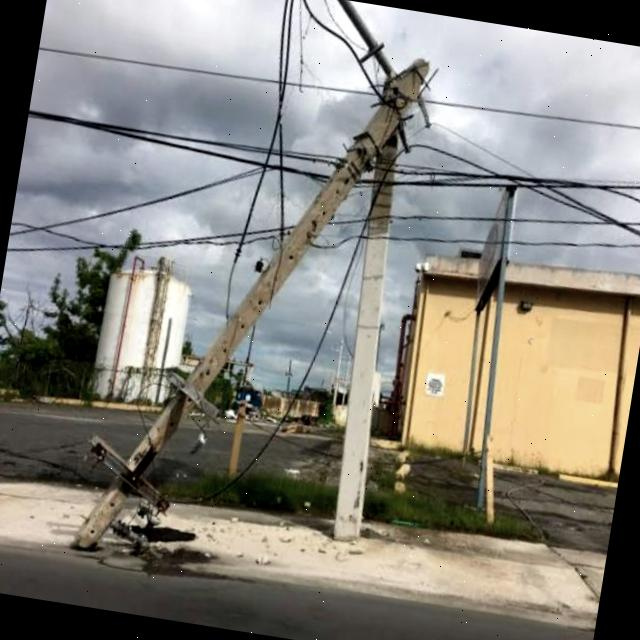Broken Pole: (71, 0, 437, 550)
